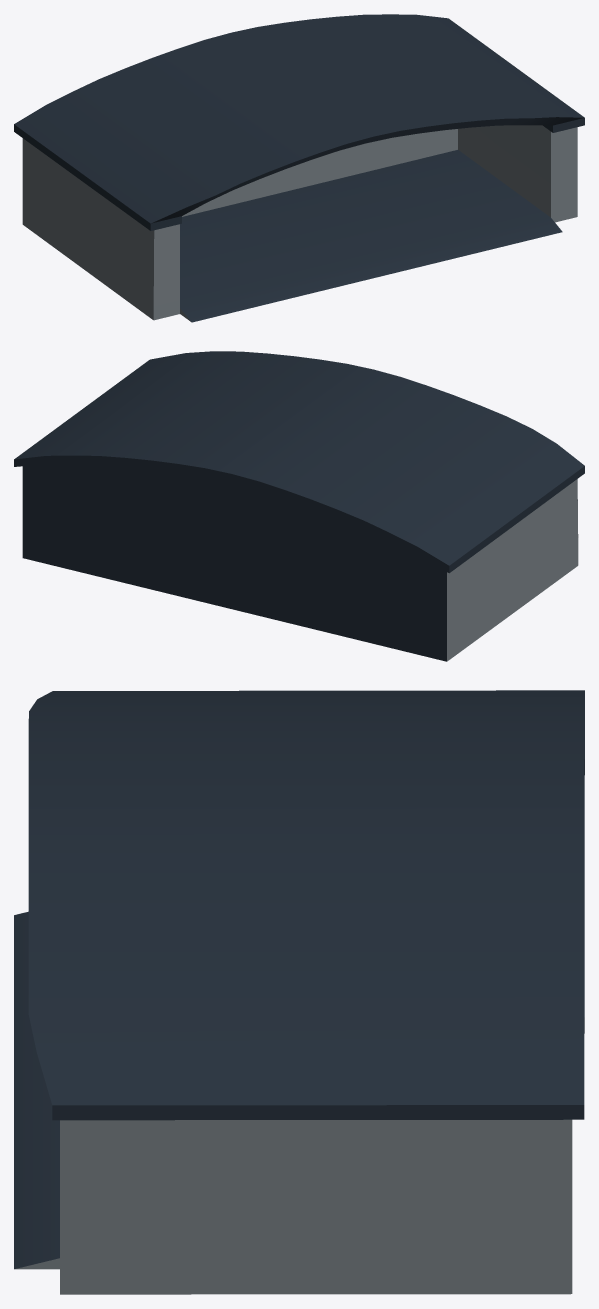
Rendered from SpawnPoint.fbx.
3 renders of one model, top to bottom at view 1: azimuth 30°, elevation 25°; view 2: azimuth 150°, elevation 25°; view 3: azimuth 270°, elevation 25°, orthographic. The views are drawn at different scales.
Parts seen in each view (by area): view 1: Entrance.001; view 2: Entrance.001; view 3: Entrance.001.
Boxes of the visible parts, x1=… form: Entrance.001: x1=14, y1=14, x2=584, y2=322; Entrance.001: x1=14, y1=351, x2=584, y2=661; Entrance.001: x1=14, y1=690, x2=584, y2=1294.
Size of the model in its own units: 12015 by 3643 by 6986.
